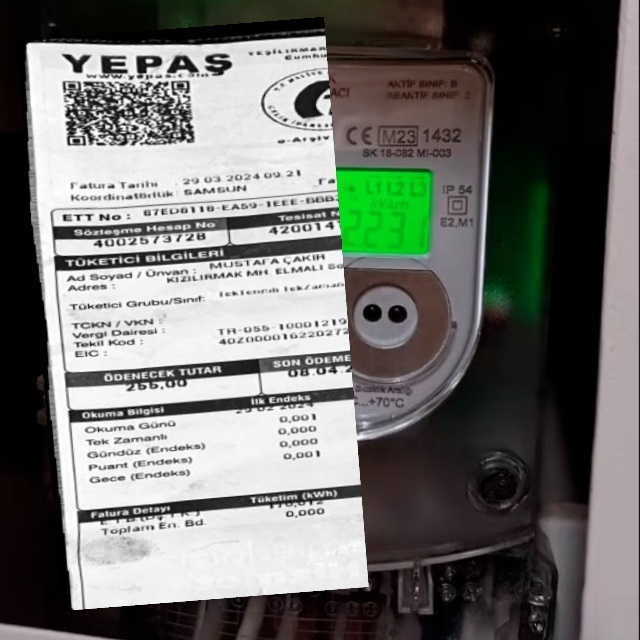electricity-bill: (16, 17, 368, 611)
